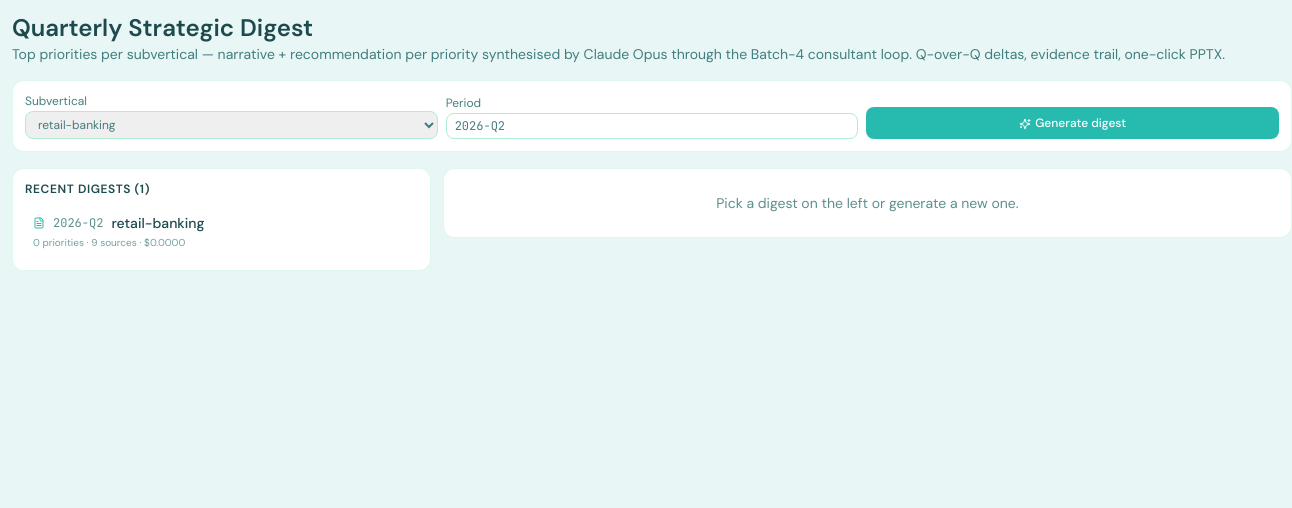
Test case: StrategicDigest › renders digest list + opens detail with priority cards
Click the button "2026-Q2": (78,223) x1=25 y1=205 x2=418 y2=258
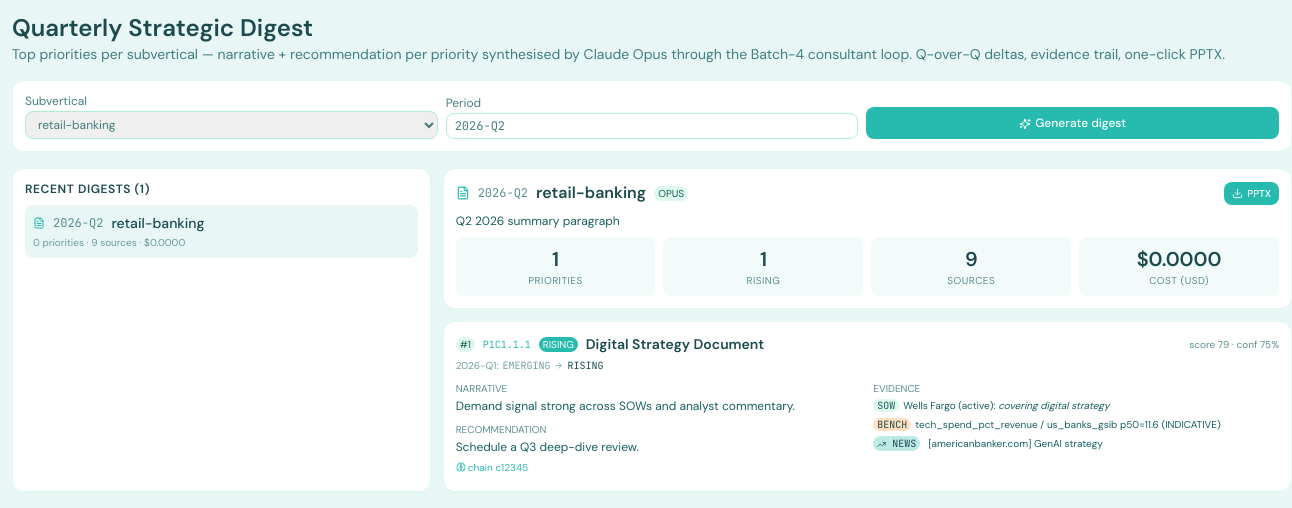
Expected: the text "Digital Strategy Document" is shown, x1=586 y1=334 x2=764 y2=354
Expected: the text "Demand signal strong across SOWs and analyst commentary." is shown, x1=456 y1=398 x2=795 y2=414
Expected: the text "EMERGING" is shown, x1=502 y1=358 x2=550 y2=373
